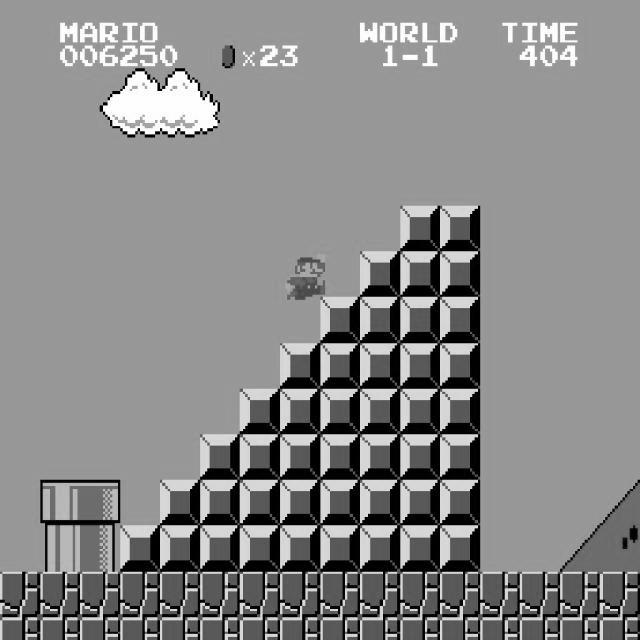11- little_mario: (282, 251, 326, 300)
14- pipe: (40, 526, 80, 572), (80, 526, 120, 572)
15- pipe_head: (40, 480, 80, 526), (80, 480, 120, 526)
17- undestructible_block: (599, 571, 640, 617), (0, 571, 40, 617), (40, 572, 80, 618), (80, 572, 120, 618), (120, 572, 160, 618), (160, 572, 200, 618), (200, 572, 240, 618), (240, 572, 280, 618), (280, 572, 320, 618), (320, 572, 360, 618), (360, 572, 400, 618), (400, 572, 440, 618), (440, 572, 480, 618), (480, 572, 520, 618), (520, 572, 560, 618), (560, 572, 600, 618), (40, 617, 80, 640), (80, 617, 120, 640), (120, 617, 160, 640), (160, 617, 200, 640), (200, 617, 240, 640), (240, 617, 280, 640), (280, 617, 320, 640), (320, 617, 360, 640), (360, 617, 400, 640), (400, 617, 440, 640), (440, 617, 480, 640), (480, 617, 520, 640), (520, 617, 560, 640), (560, 617, 600, 640), (599, 617, 640, 639), (0, 617, 40, 639)
9- hard_block: (120, 526, 160, 572), (160, 480, 200, 526), (160, 526, 200, 572), (200, 434, 240, 480), (200, 480, 240, 526), (200, 526, 240, 572), (240, 388, 280, 434), (240, 434, 280, 480), (240, 480, 280, 526), (240, 526, 280, 572), (280, 388, 320, 434), (280, 434, 320, 480), (280, 480, 320, 526), (280, 526, 320, 572), (320, 297, 360, 343), (320, 388, 360, 434), (320, 434, 360, 480), (320, 480, 360, 526), (320, 526, 360, 572), (360, 252, 400, 298), (360, 297, 400, 343), (360, 388, 400, 434), (360, 434, 400, 480), (360, 480, 400, 526), (360, 526, 400, 572), (400, 252, 440, 298), (400, 297, 440, 343), (400, 388, 440, 434), (400, 434, 440, 480), (400, 480, 440, 526), (400, 526, 440, 572), (440, 252, 480, 298), (440, 297, 480, 343), (440, 388, 480, 434), (440, 434, 480, 480), (440, 480, 480, 526), (440, 526, 480, 572), (280, 343, 320, 388), (320, 343, 360, 388), (360, 343, 400, 388), (400, 206, 440, 251), (400, 343, 440, 388), (440, 206, 480, 251), (440, 343, 480, 388)
